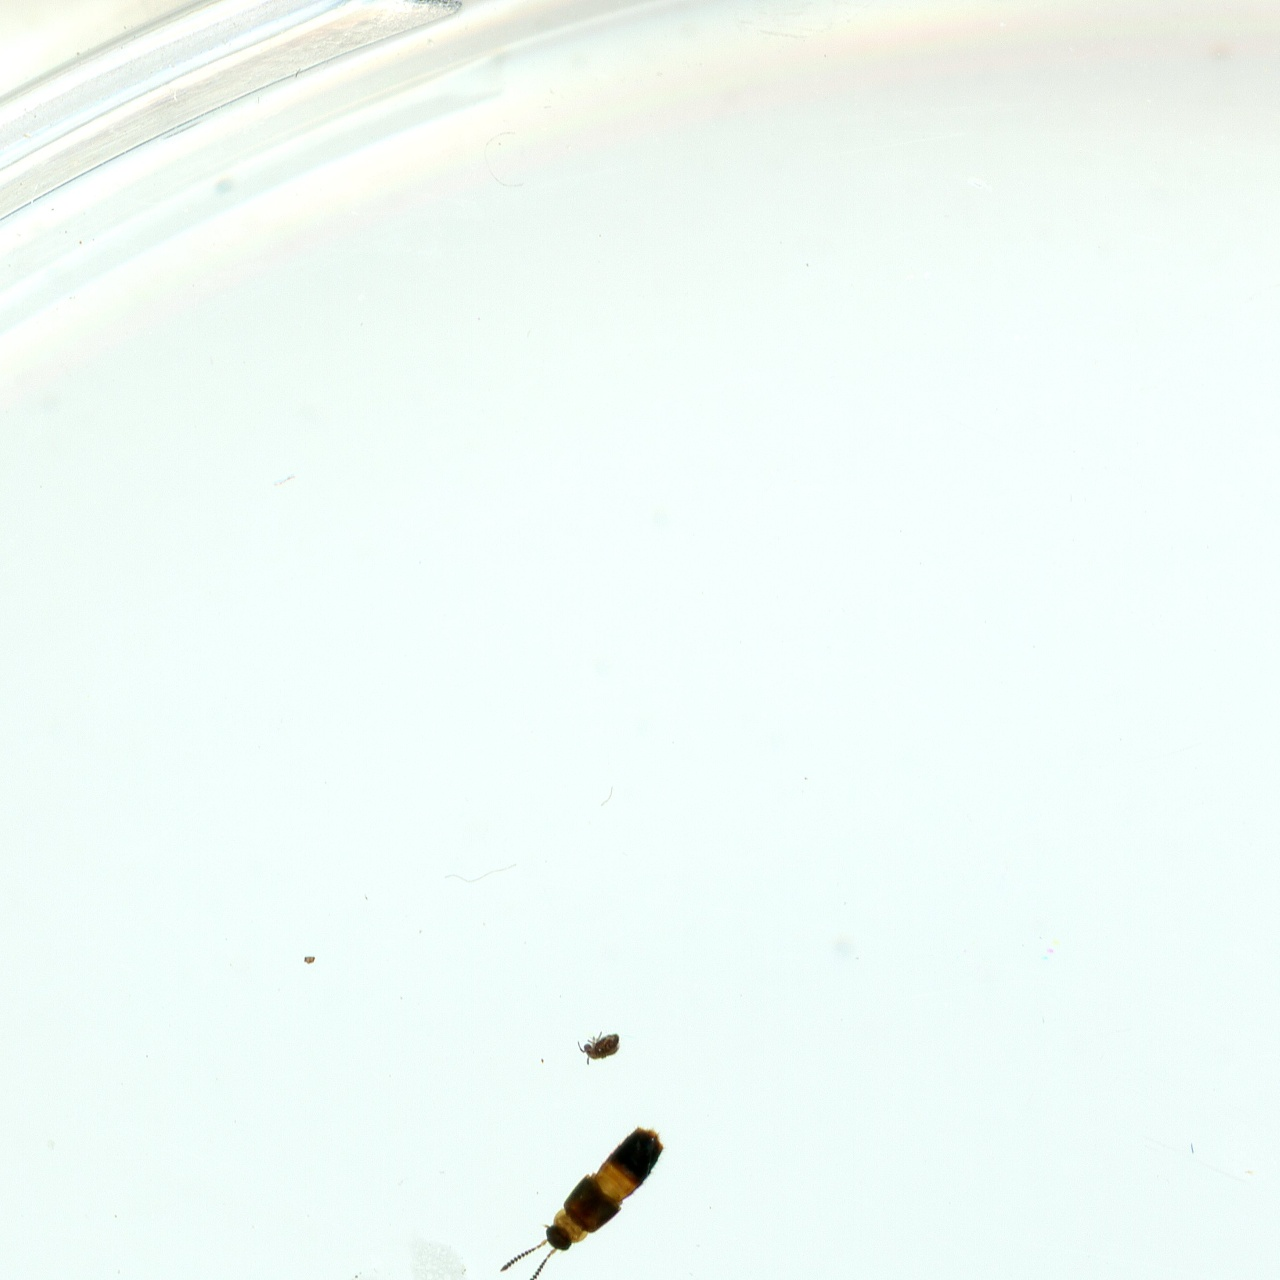arthropod: (474, 1083, 688, 1280), (574, 1027, 625, 1069)
